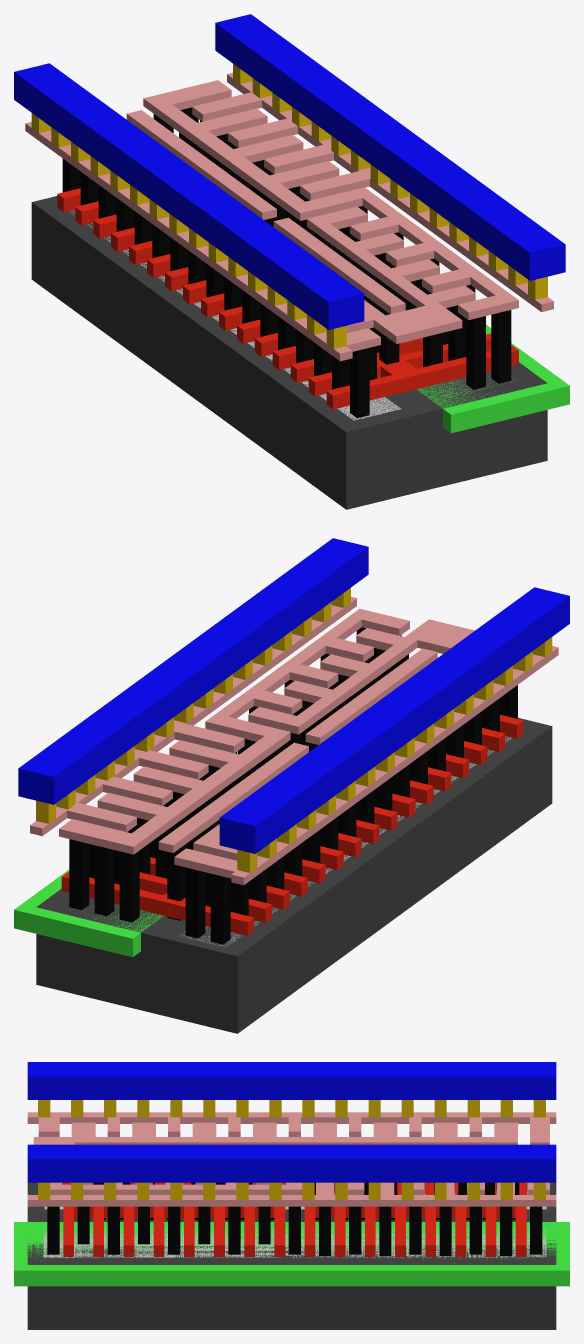
The model's file is sky130_fd_sc_hd__nor2_8.obj.
3 views of the same model, one above another, from view 1: azimuth 30°, elevation 25°; view 2: azimuth 150°, elevation 25°; view 3: azimuth 270°, elevation 25° (orthographic). The views are drawn at different scales.
Visible parts, largest first — view 1: subs, metal1, li, licon, poly, mcon, nwell, diff; view 2: subs, metal1, li, licon, poly, mcon, nwell; view 3: metal1, subs, li, nwell, poly, licon, mcon, tap.
Boxes of the visible parts, bbox=[...] form: subs: bbox=[31, 196, 547, 509]; metal1: bbox=[14, 14, 565, 329]; li: bbox=[25, 73, 553, 361]; licon: bbox=[62, 107, 511, 418]; poly: bbox=[57, 188, 518, 409]; mcon: bbox=[31, 64, 547, 348]; nwell: bbox=[417, 324, 569, 433]; diff: bbox=[56, 202, 401, 420]; subs: bbox=[36, 718, 552, 1033]; metal1: bbox=[18, 538, 569, 853]; li: bbox=[30, 597, 558, 885]; licon: bbox=[69, 627, 517, 944]; poly: bbox=[61, 714, 523, 935]; mcon: bbox=[36, 588, 552, 872]; nwell: bbox=[14, 751, 237, 957]; metal1: bbox=[27, 1062, 556, 1182]; subs: bbox=[27, 1182, 556, 1329]; li: bbox=[27, 1112, 556, 1206]; nwell: bbox=[14, 1222, 569, 1286]; poly: bbox=[63, 1182, 526, 1256]; licon: bbox=[47, 1182, 542, 1255]; mcon: bbox=[38, 1100, 545, 1199]; tap: bbox=[43, 1228, 546, 1257].
Size of the model in its own units: 3.2 by 2.74 by 7.74.
